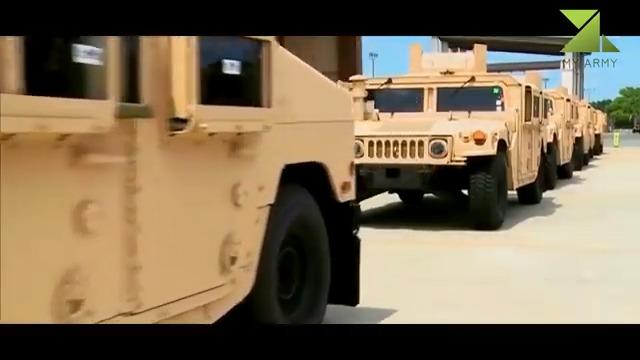MIL_HMMWV: (0, 36, 362, 322), (355, 75, 547, 229)
